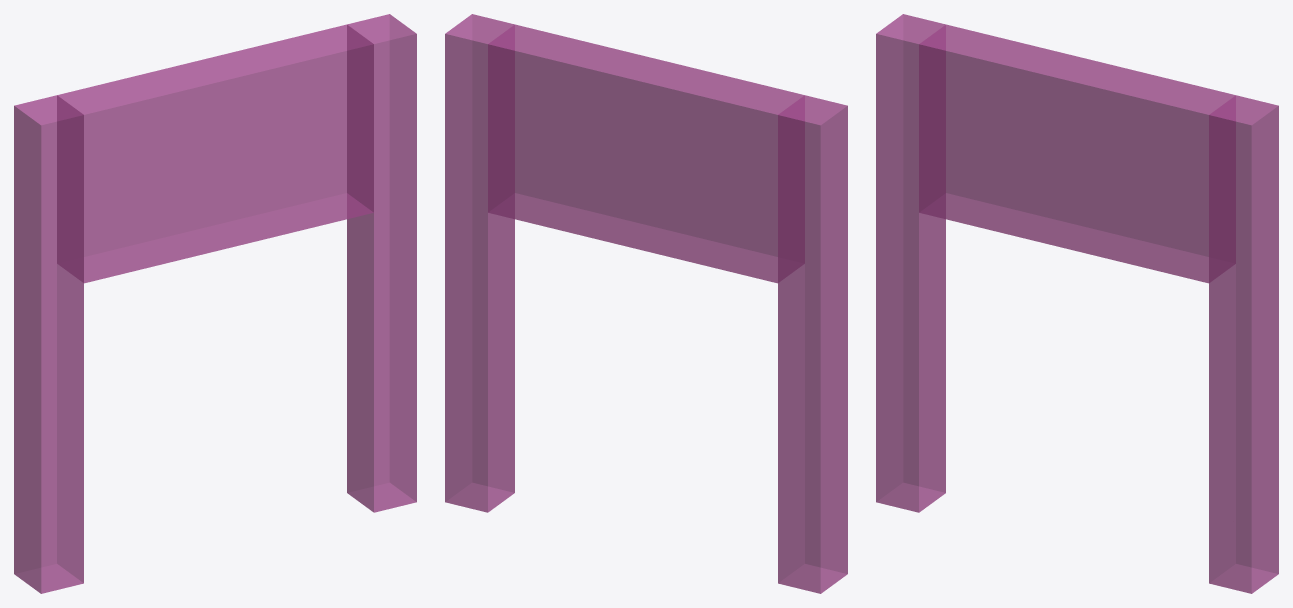
Rendered from SM_Bld_Base_Wall_Door_Double_01_Collision.glb.
3 views of the same model, side by side, from view 1: azimuth 30°, elevation 25°; view 2: azimuth 150°, elevation 25°; view 3: azimuth 330°, elevation 25° (orthographic).
Visible parts, largest first — view 1: SM_Bld_Base_Wall_Door_Double_01_Collision; view 2: SM_Bld_Base_Wall_Door_Double_01_Collision; view 3: SM_Bld_Base_Wall_Door_Double_01_Collision.
Boxes of the visible parts, x1,y1,x2,y2 form: SM_Bld_Base_Wall_Door_Double_01_Collision: (14, 14, 416, 593); SM_Bld_Base_Wall_Door_Double_01_Collision: (445, 14, 847, 593); SM_Bld_Base_Wall_Door_Double_01_Collision: (876, 14, 1278, 593).
Size of the model in its own units: 2.53 by 3.02 by 0.3156.
